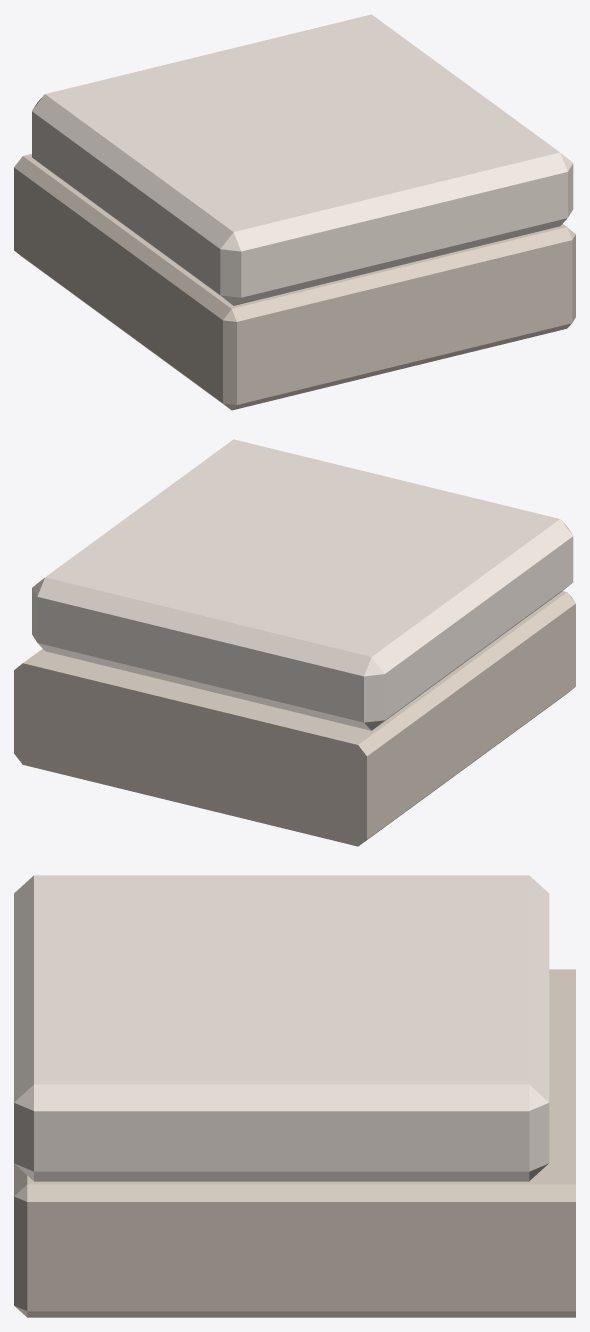
File: Prop_Living_Room_Modular_Couch_Leg_Rest.glb
The picture shows the model from 3 angles, top to bottom: view 1: azimuth 30°, elevation 25°; view 2: azimuth 150°, elevation 25°; view 3: azimuth 270°, elevation 25°; orthographic projection. The views are drawn at different scales.
Visible parts, largest first — view 1: Prop_Living_Room_Modular_Couch_Leg_Rest; view 2: Prop_Living_Room_Modular_Couch_Leg_Rest; view 3: Prop_Living_Room_Modular_Couch_Leg_Rest.
Boxes of the visible parts, x1,y1,x2,y2 form: Prop_Living_Room_Modular_Couch_Leg_Rest: [14, 14, 575, 410]; Prop_Living_Room_Modular_Couch_Leg_Rest: [14, 439, 575, 846]; Prop_Living_Room_Modular_Couch_Leg_Rest: [14, 875, 575, 1317].
Bounding box in the file's own units: 1 × 0.475 × 1.05.
